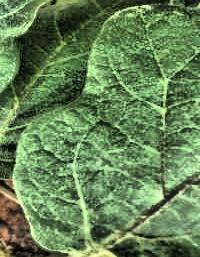HEALTHY: (0, 1, 200, 257)
